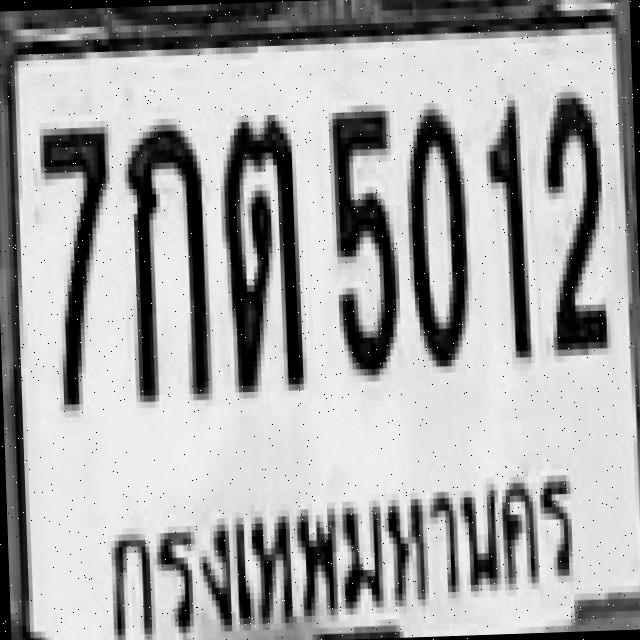0: (402, 99, 468, 364)
1: (480, 93, 527, 358)
10GorGai: (122, 114, 208, 399)
2: (540, 84, 606, 350)
30TorTao: (218, 107, 304, 386)
5: (328, 101, 398, 373)
7: (35, 120, 113, 405)
Bangkok: (83, 452, 580, 640)
